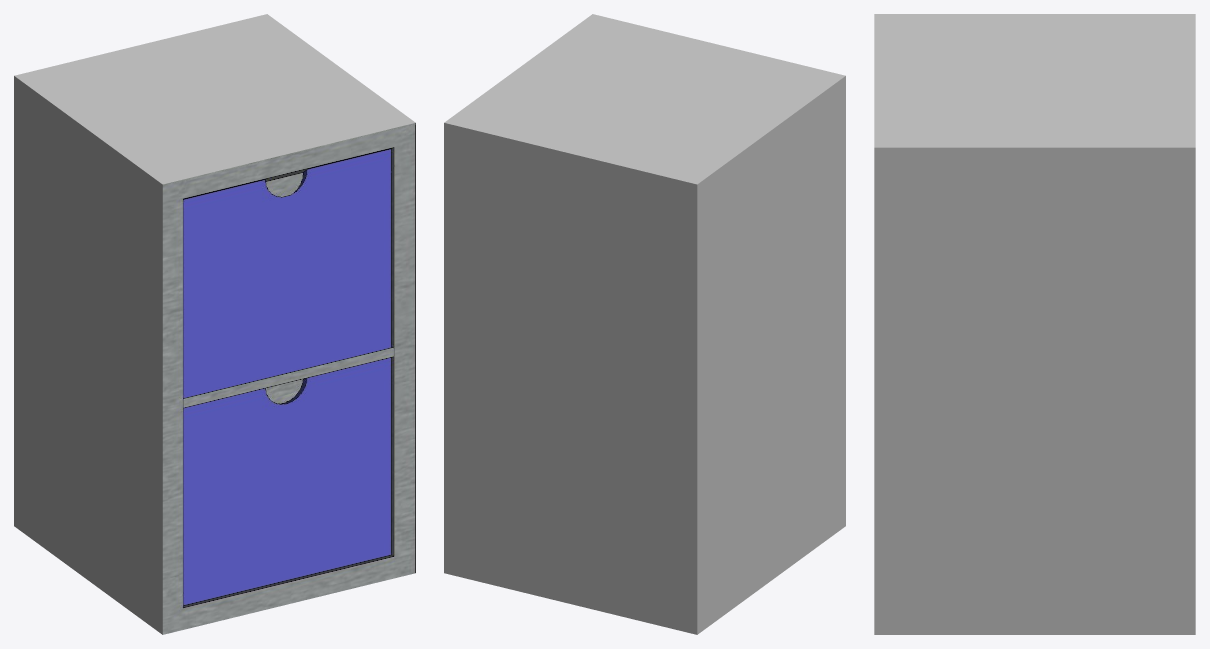
Rendered from ArmarioArquivoLab.dae.
3 views of the same model, side by side, from view 1: azimuth 30°, elevation 25°; view 2: azimuth 150°, elevation 25°; view 3: azimuth 270°, elevation 25° (orthographic). The views are drawn at different scales.
Visible parts, largest first — view 1: instance_0 (×2); view 2: instance_0; view 3: instance_0.
Boxes of the visible parts, bbox=[...] form: instance_0 (×2): bbox=[14, 14, 415, 634]; instance_0: bbox=[444, 14, 845, 634]; instance_0: bbox=[874, 14, 1195, 634].
Size of the model in its own units: 23.62 by 24.02 by 40.16.
